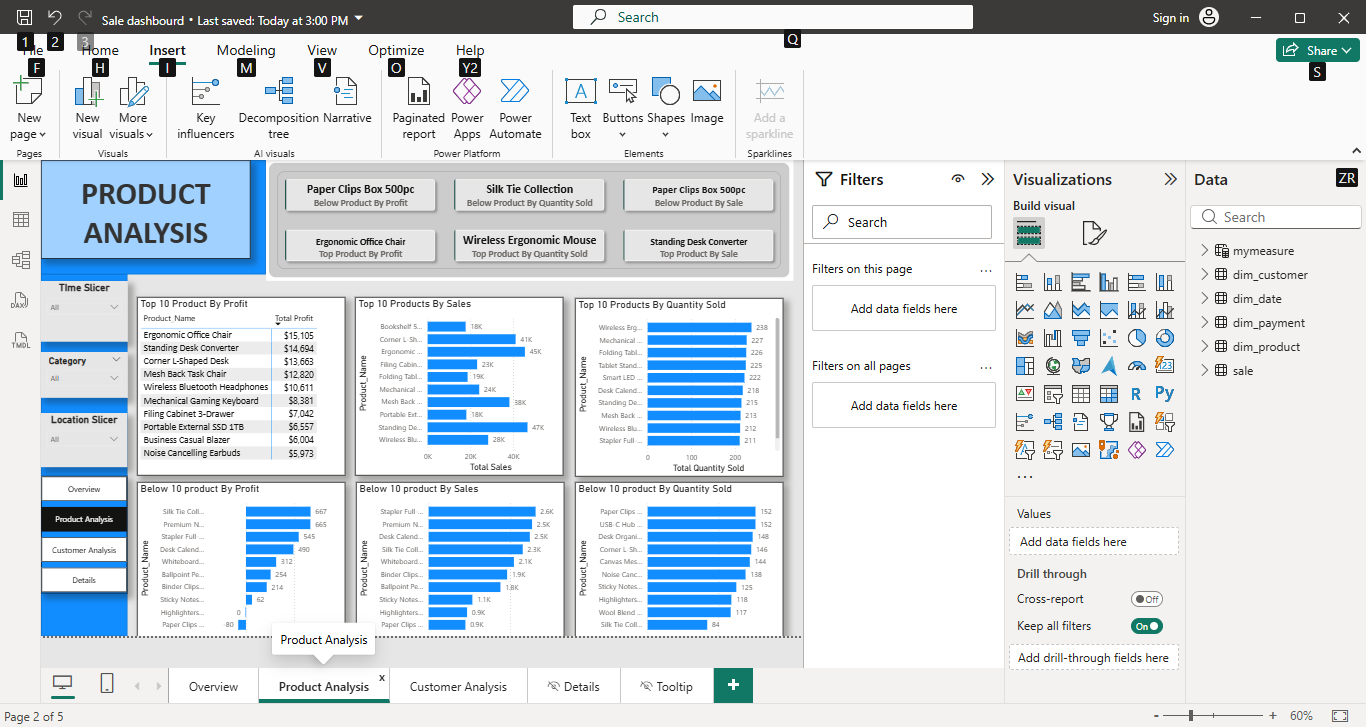

The dashboard page shown, as its layout file describes it:
{"tool":"powerbi","page":{"name":"Product Analysis","canvas":[1280,800],"ordinal":1},"visuals":[{"type":"shape","box":[0,191.4,145.3,608.4],"z":0},{"type":"shape","box":[0,0,377.6,192],"z":1000},{"type":"pivotTable","title":"Top 10 Product By Profit","fields":{"Rows":["dim_product.Product_Name"],"Values":["mymeasure.Total Profit"]},"box":[161.6,230.4,350,300],"z":2000},{"type":"clusteredBarChart","title":"Top 10 Products By Sales","fields":{"Y":["mymeasure.Total Sales"],"Category":["dim_product.Product_Name","dim_date.year Hierarchy.year","dim_date.year Hierarchy.Month"]},"box":[528,230.4,350,300],"z":3000},{"type":"clusteredBarChart","title":"Top 10 Products By Quantity Sold","fields":{"Category":["dim_product.Product_Name"],"Y":["mymeasure.Total Quantity Sold"]},"box":[896.5,231.8,350,300],"z":4000},{"type":"clusteredBarChart","title":"Below 10 product By Profit ","fields":{"Y":["mymeasure.Total Profit"],"Category":["dim_product.Product_Name"]},"box":[161.2,541.3,350,300],"z":5000},{"type":"clusteredBarChart","title":"Below 10 product By Quantity Sold","fields":{"Category":["dim_product.Product_Name"],"Y":["mymeasure.Total Quantity Sold"]},"box":[896.5,541.3,350,300],"z":6000},{"type":"clusteredBarChart","title":"Below 10 product By Sales","fields":{"Category":["dim_product.Product_Name"],"Y":["mymeasure.Total Sales"]},"box":[528.4,541.3,350,300],"z":7000},{"type":"textbox","box":[0,0,352,166.4],"z":8000},{"type":"cardVisual","fields":{"Data":["mymeasure.Below Product By Profit","mymeasure.Below Product By Quantity Sold","mymeasure.Below Product By Sale","mymeasure.Top Product By Profit","mymeasure.Top Product By Quantity Sold","mymeasure.Top Product By Sale"]},"box":[377.6,0,886.4,203.2],"z":9000},{"type":"slicer","title":"TIme Slicer","fields":{"Values":["dim_date.year Hierarchy.year","dim_date.year Hierarchy.Month"]},"box":[0,203.2,145.6,102.4],"z":10000},{"type":"slicer","fields":{"Values":["dim_product.Product_Category"]},"box":[0,323.2,145.6,76.8],"z":11000},{"type":"slicer","title":"Location Slicer","fields":{"Values":["sale.Region Hierarchy.Region","sale.Region Hierarchy.Country"]},"box":[0,425.5,145.3,90.6],"z":12000},{"type":"pageNavigator","box":[0,530.3,145.3,197],"z":13000}]}

Visuals, with their boxes on the page's 1280x800 design canvas (x1, y1, x2, y2). These are canvas units, not pixel positions in the 1366x727 screenshot, which may show the page scaled, cropped or inside an application window:
shape: crop(0, 191, 145, 800)
shape: crop(0, 0, 378, 192)
"Top 10 Product By Profit" pivotTable: crop(162, 230, 512, 530)
"Top 10 Products By Sales" clusteredBarChart: crop(528, 230, 878, 530)
"Top 10 Products By Quantity Sold" clusteredBarChart: crop(896, 232, 1246, 532)
"Below 10 product By Profit " clusteredBarChart: crop(161, 541, 511, 841)
"Below 10 product By Quantity Sold" clusteredBarChart: crop(896, 541, 1246, 841)
"Below 10 product By Sales" clusteredBarChart: crop(528, 541, 878, 841)
textbox: crop(0, 0, 352, 166)
cardVisual - mymeasure.Below Product By Profit x mymeasure.Below Product By Quantity Sold: crop(378, 0, 1264, 203)
"TIme Slicer" slicer: crop(0, 203, 146, 306)
slicer - dim_product.Product_Category: crop(0, 323, 146, 400)
"Location Slicer" slicer: crop(0, 426, 145, 516)
pageNavigator: crop(0, 530, 145, 727)
